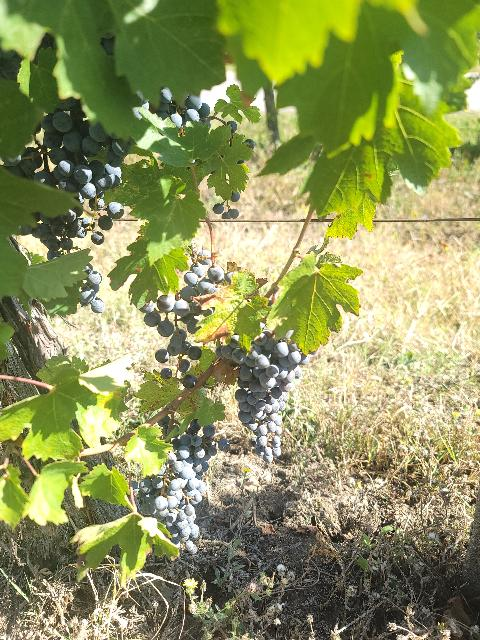grapes: (139, 242, 234, 389), (216, 330, 310, 462), (134, 450, 202, 554), (172, 419, 230, 475)
